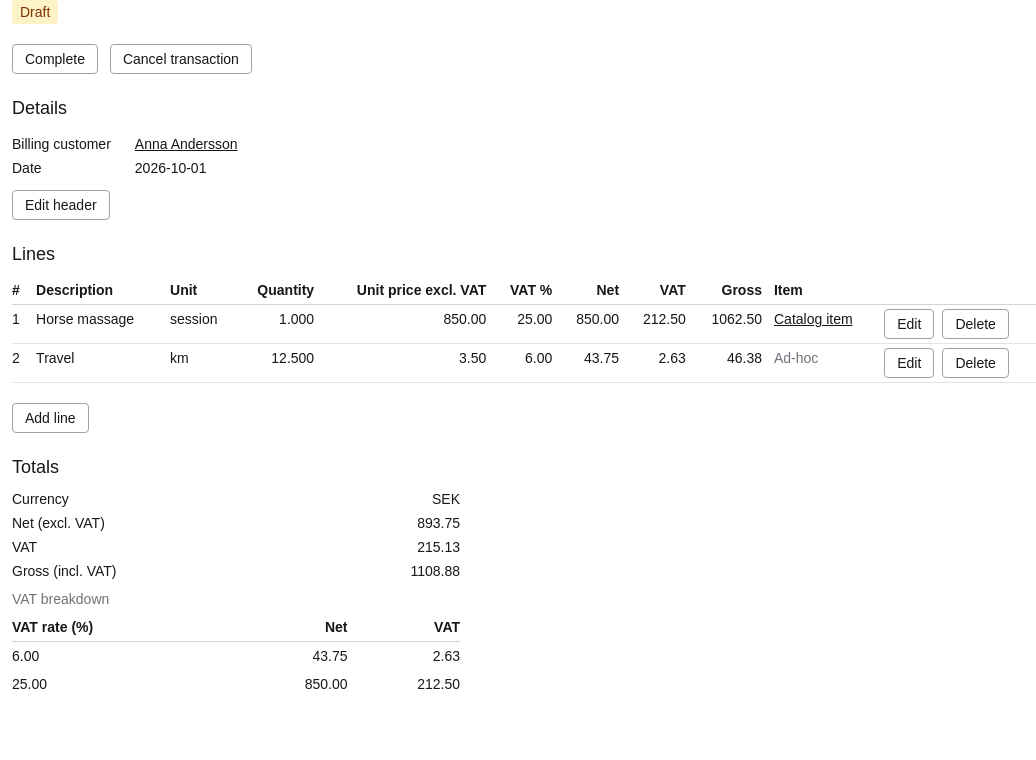
Test case: adding a line from the catalog › a quantity that is not a decimal at all () is stopped locally
Click the button with test id "add-line". click: (50, 418)
box: [12,403,89,433]
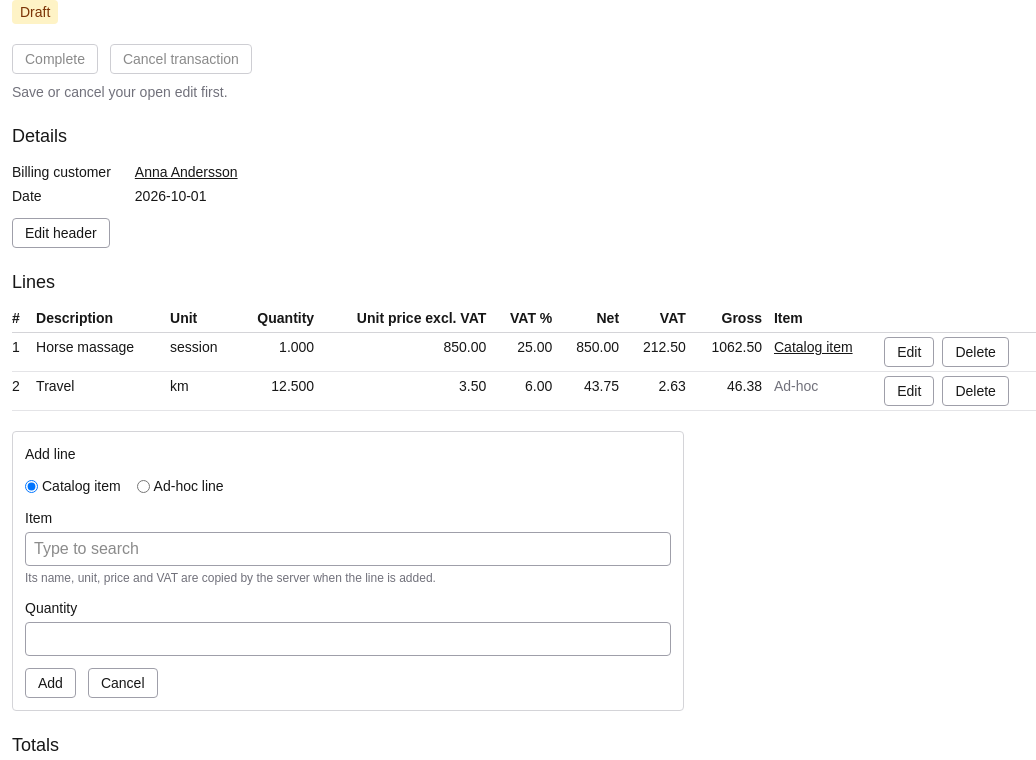
Click the dropdown. click: (348, 549)
box: [25,532,671,566]
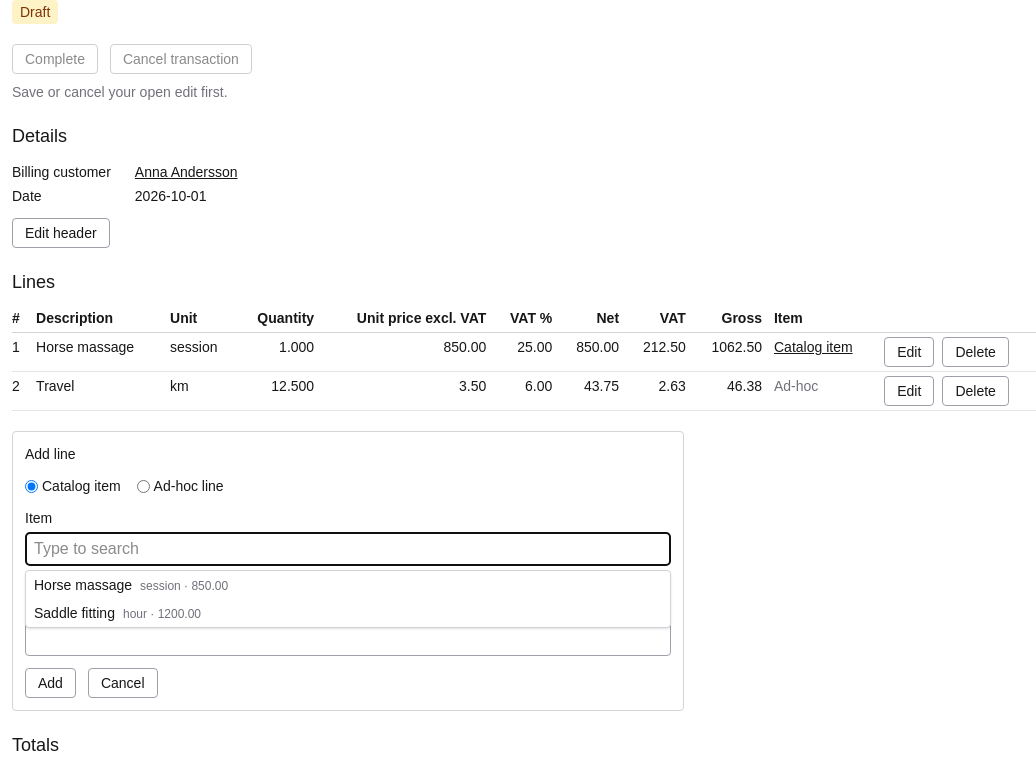
Click the option "Horse massage". click: (131, 585)
box: [34,577,228,593]
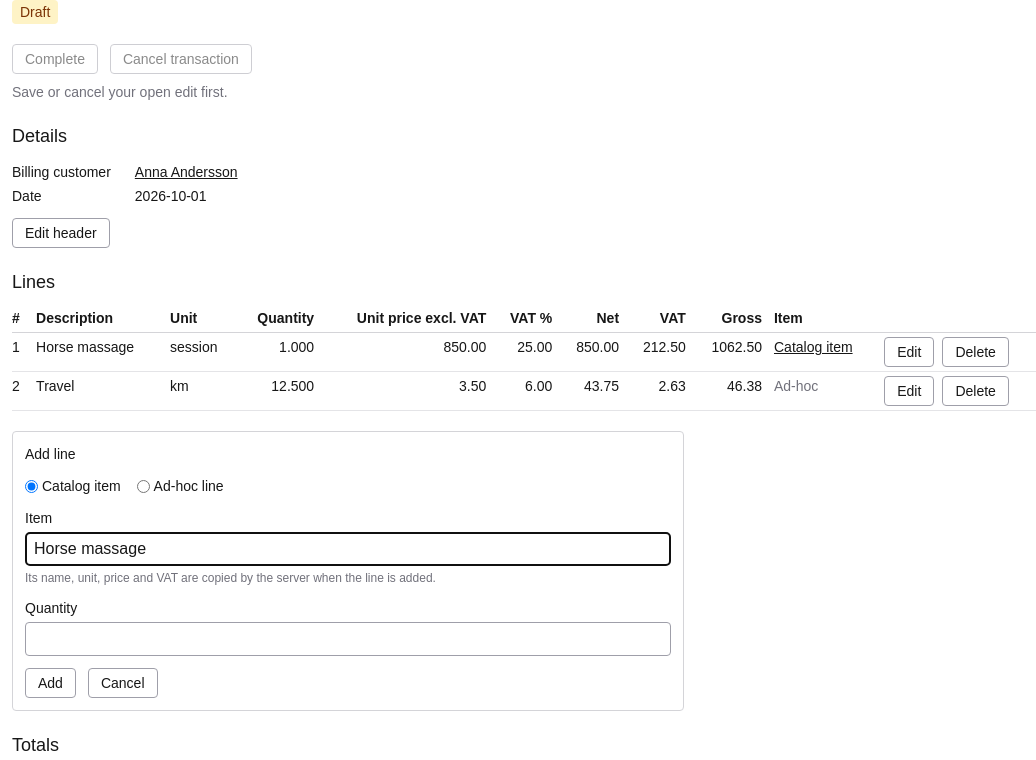
Click the button with test id "submit-line". click: (50, 683)
box: [25,668,76,698]
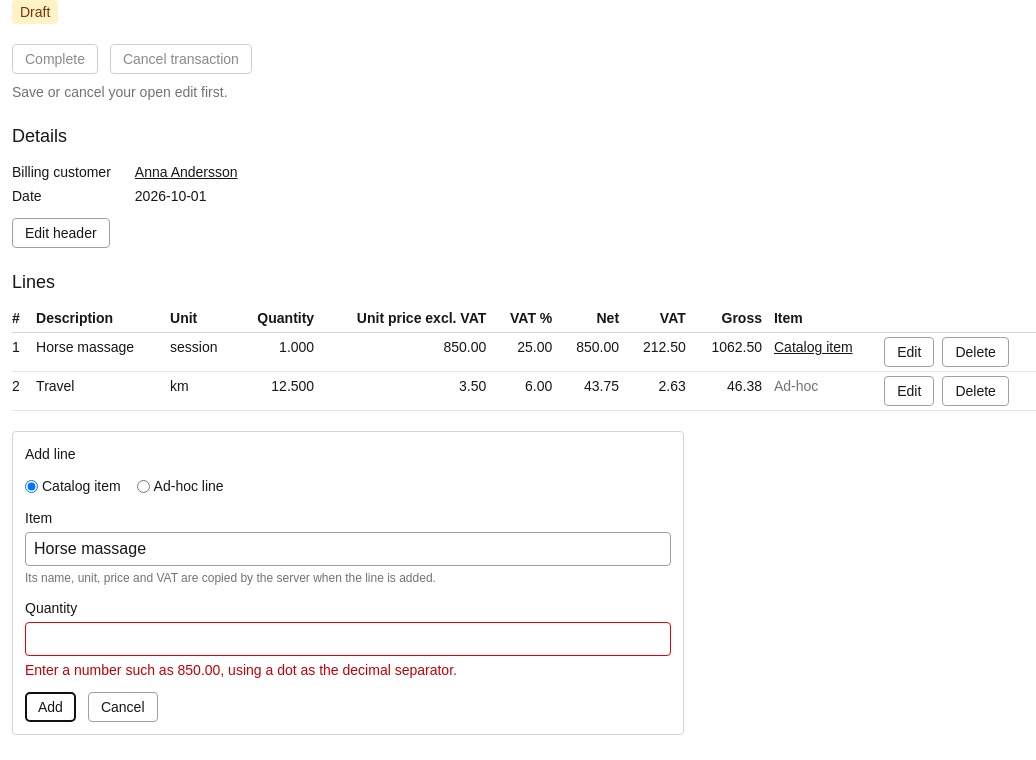
Expected: the text with test id "error-quantity" shows "Enter a number such as 850.00", [25,662,457,678]
